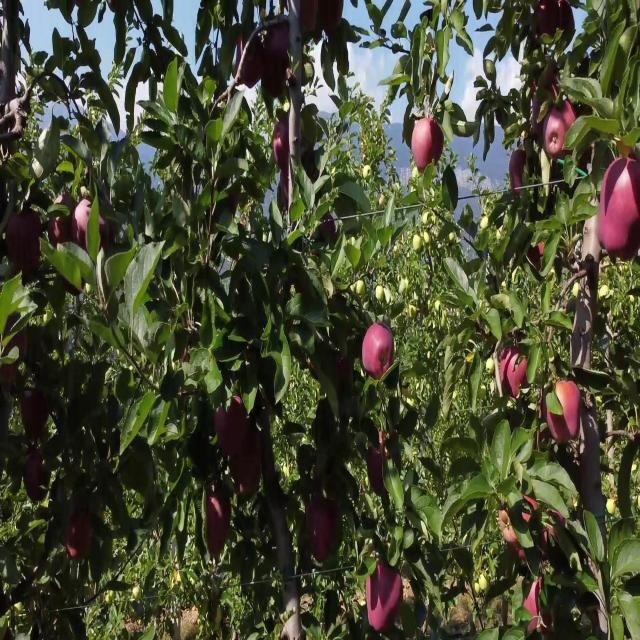apple: (600, 156, 640, 256), (600, 177, 636, 260), (368, 561, 403, 633), (260, 28, 291, 101), (548, 383, 582, 448), (8, 213, 43, 276), (216, 398, 251, 459), (364, 319, 396, 382), (232, 433, 263, 498), (76, 199, 112, 254), (308, 504, 339, 565), (368, 426, 394, 496), (4, 319, 28, 391), (204, 497, 232, 558), (260, 49, 291, 101), (236, 35, 264, 92), (412, 120, 444, 169), (264, 21, 292, 76), (64, 511, 94, 562), (24, 447, 51, 503), (20, 391, 50, 441), (4, 99, 26, 164), (524, 583, 551, 633), (600, 213, 631, 256), (368, 440, 391, 496), (532, 63, 559, 105), (544, 113, 566, 162), (272, 120, 292, 172), (532, 1, 558, 41), (500, 504, 521, 553), (508, 355, 529, 400), (320, 0, 344, 37), (532, 92, 549, 142), (500, 504, 519, 548), (536, 63, 559, 98), (544, 511, 566, 546), (300, 0, 318, 41), (556, 1, 576, 37), (512, 149, 528, 192), (52, 213, 72, 247), (336, 355, 354, 389), (576, 142, 594, 176), (500, 348, 513, 395), (532, 106, 547, 146), (48, 220, 68, 249), (560, 99, 577, 133), (520, 497, 539, 526), (288, 71, 302, 105), (528, 241, 545, 268), (544, 78, 560, 105)
